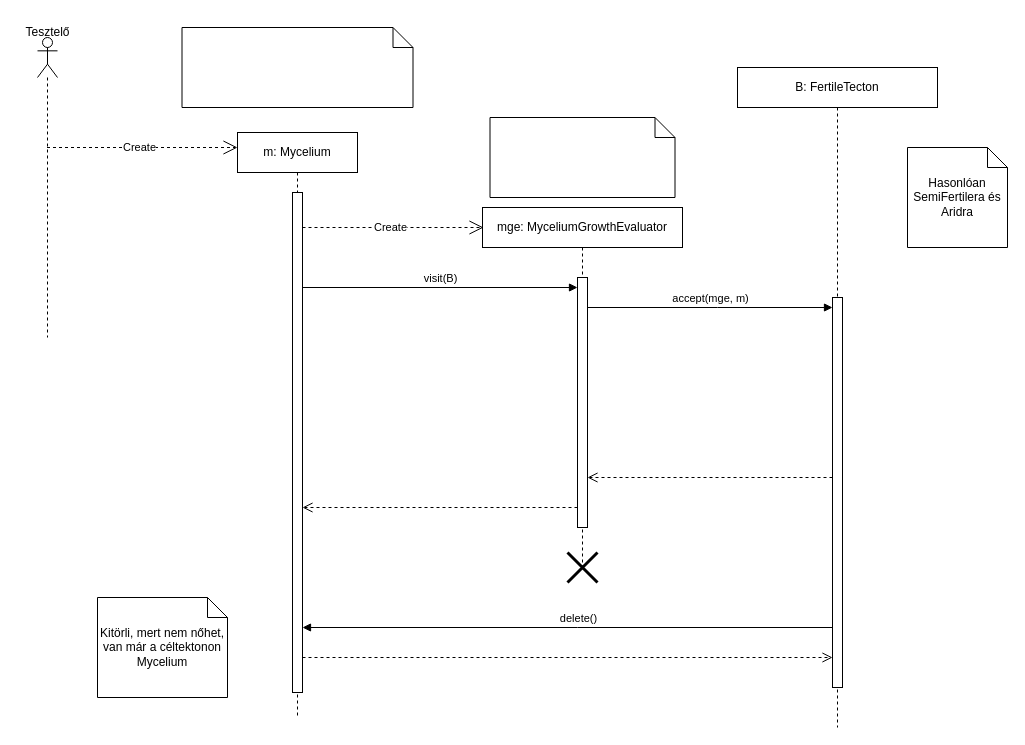
Some shapes in this 1025 by 745 pixel diagram are drawn without their labels. The box of each missing label's shape, as (x1, y1, x2, y2) in pixels:
m megkapja a konstruktorában a B tectont ahova nőni szeretne: (181, 26, 413, 108)
mge megkapja konstruktorában az m Mycelium-ot amihez tartozik: (489, 116, 675, 198)
